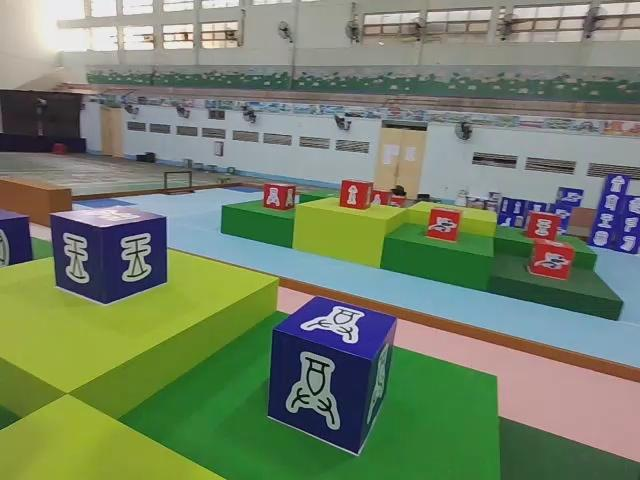R2 Real Blue: (271, 293, 399, 457), (53, 209, 171, 308)
